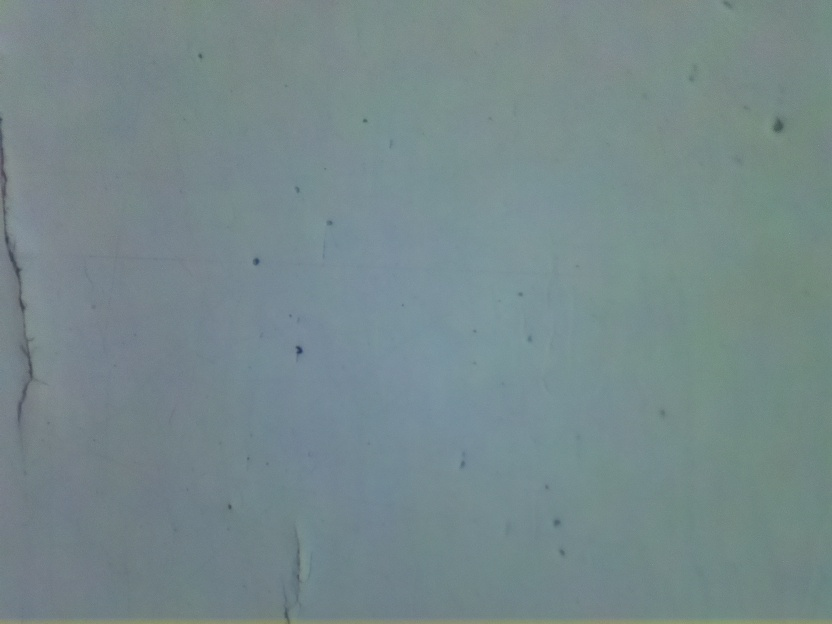crack: (0, 112, 41, 411), (279, 527, 311, 624)
